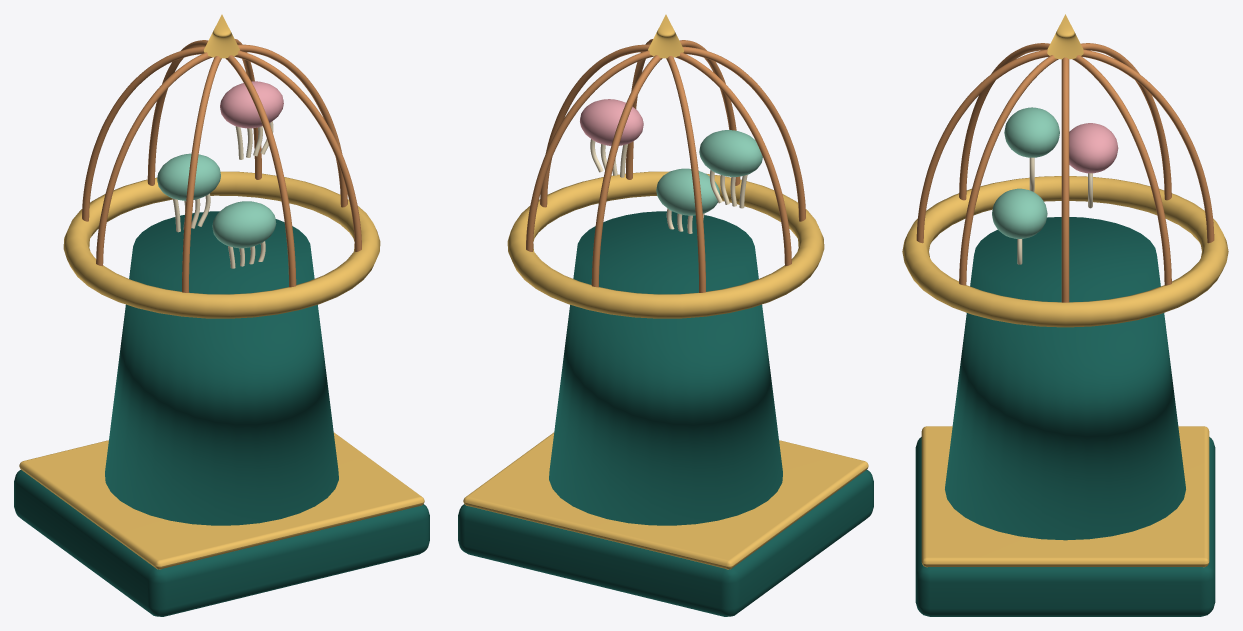
3 views of the same model, side by side, from view 1: azimuth 30°, elevation 25°; view 2: azimuth 150°, elevation 25°; view 3: azimuth 270°, elevation 25° (orthographic). The views are drawn at different scales.
Visible parts, largest first — view 1: Jade footing, Brass welt, Observatory dome rib, Gelato bell.002, Gelato bell, Gelato bell.001, Jelly ribbon.004; view 2: Jade footing, Brass welt, Observatory dome rib, Gelato bell, Gelato bell.001, Gelato bell.002, Jelly ribbon; view 3: Jade footing, Brass welt, Observatory dome rib, Gelato bell, Gelato bell.002, Gelato bell.001.
Part boxes in pixels (x1,y1,x2,y2): Jade footing: (14, 211, 429, 616); Brass welt: (19, 14, 424, 569); Observatory dome rib: (82, 39, 361, 292); Gelato bell.002: (212, 201, 276, 248); Gelato bell: (157, 153, 220, 200); Gelato bell.001: (220, 81, 283, 128); Jelly ribbon.004: (235, 121, 273, 159); Jade footing: (458, 211, 873, 616); Brass welt: (463, 14, 868, 569); Observatory dome rib: (526, 39, 805, 292); Gelato bell: (699, 130, 762, 176); Gelato bell.001: (580, 99, 643, 145); Gelato bell.002: (656, 168, 720, 215); Jelly ribbon: (709, 170, 747, 208); Jade footing: (915, 217, 1215, 616); Brass welt: (902, 14, 1228, 567); Observatory dome rib: (916, 43, 1214, 302); Gelato bell: (1004, 107, 1059, 157); Gelato bell.002: (992, 188, 1047, 238); Gelato bell.001: (1069, 123, 1118, 173).
Size of the model in its own units: 0.8 by 1.42 by 0.784.
